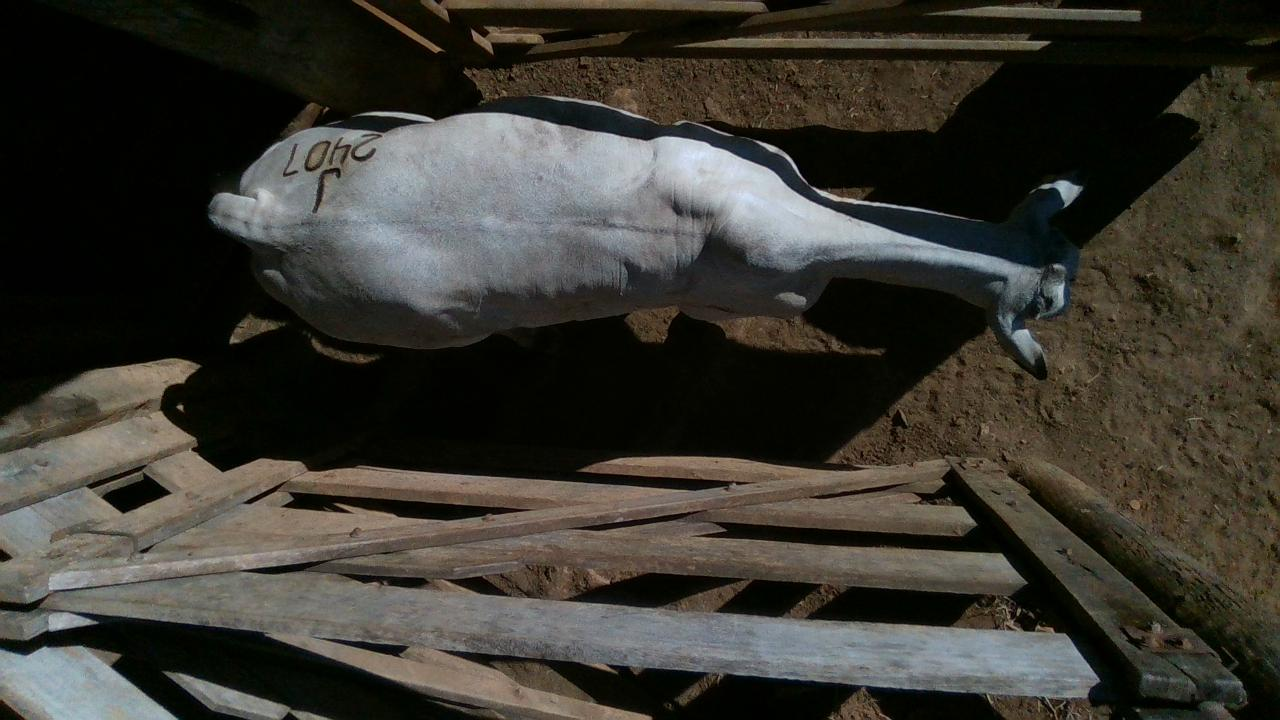cattle: (206, 93, 1087, 380)
